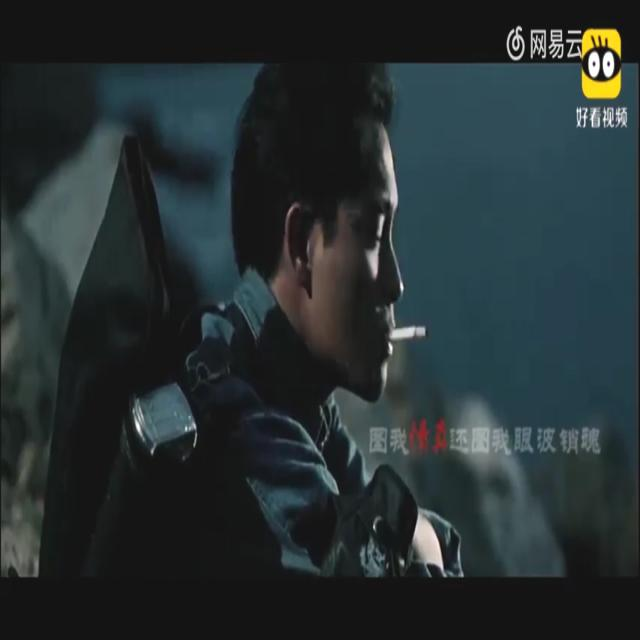cigarette: (392, 314, 432, 355)
